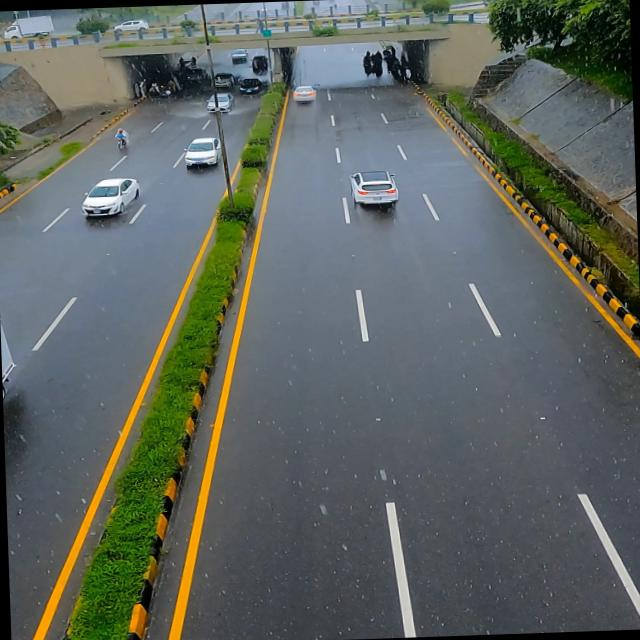Vehicle: (76, 176, 143, 226), (339, 168, 398, 210), (178, 134, 228, 174)
